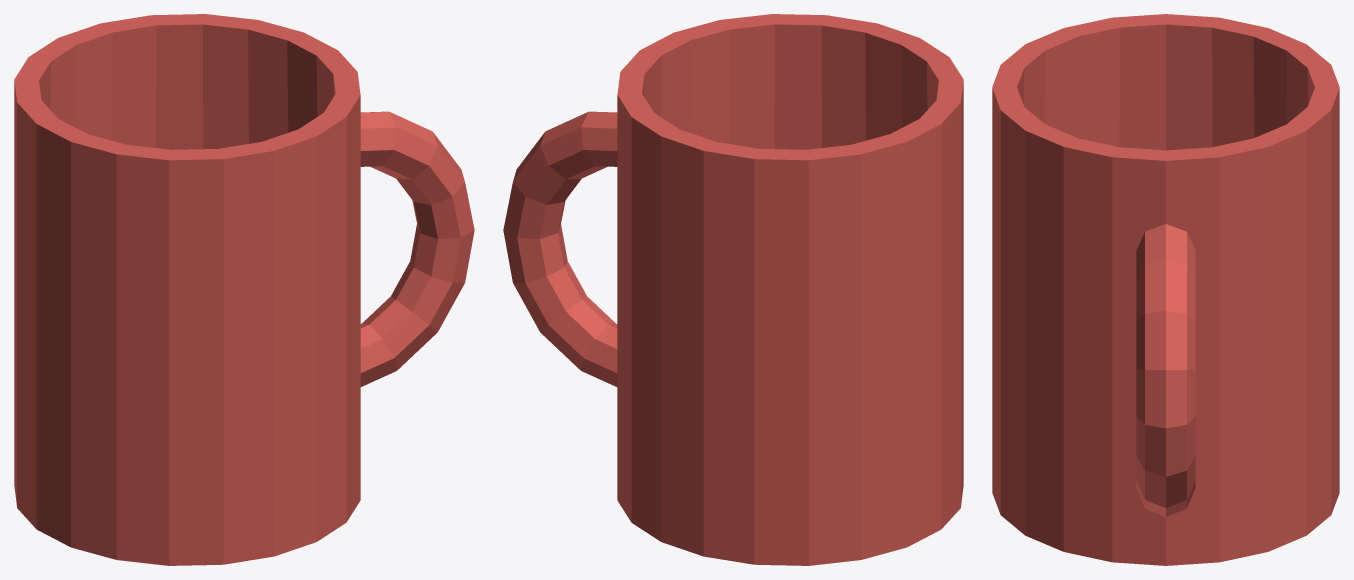
The model's file is Mug_Red.fbx.
The picture shows the model from 3 angles, left to right: view 1: azimuth 30°, elevation 25°; view 2: azimuth 150°, elevation 25°; view 3: azimuth 270°, elevation 25°; orthographic projection.
Visible parts, largest first — view 1: Mug_Red_Outer, Mug_Red_Handle; view 2: Mug_Red_Outer, Mug_Red_Handle; view 3: Mug_Red_Outer, Mug_Red_Handle.
Part boxes in pixels (<box>): Mug_Red_Outer: <box>14,14,360,565</box>; Mug_Red_Handle: <box>360,111,474,386</box>; Mug_Red_Outer: <box>617,14,963,565</box>; Mug_Red_Handle: <box>503,111,617,386</box>; Mug_Red_Outer: <box>992,14,1339,565</box>; Mug_Red_Handle: <box>1136,224,1195,516</box>.
Bounding box in the file's own units: 10.1 × 9 × 7.
